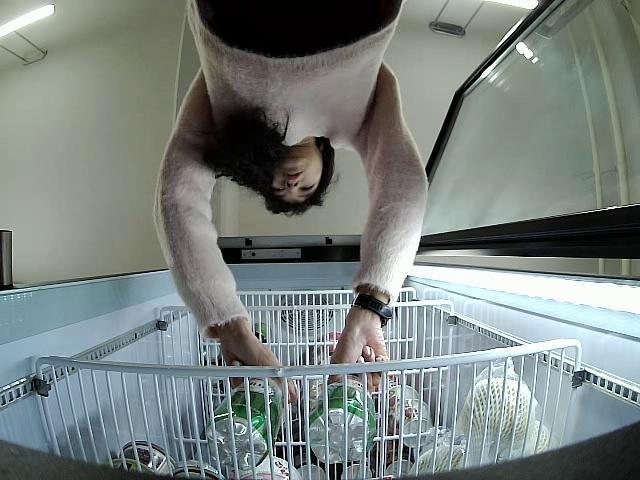18_trevi: (202, 377, 279, 470), (304, 380, 378, 470)
